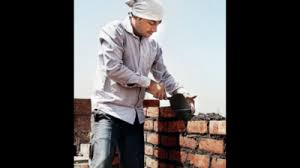arm: (100, 29, 162, 96), (154, 43, 194, 120)
face: (131, 15, 161, 36)
glove: (111, 63, 157, 88), (170, 90, 193, 117)
helmet: (125, 0, 165, 22)
human: (84, 0, 187, 165)
leg: (114, 119, 145, 167)
noglove: (147, 79, 164, 99)
nogoggle: (135, 18, 159, 26)
novest: (103, 26, 162, 113)
